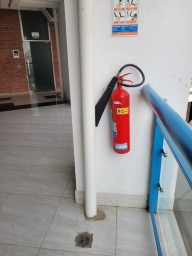fire_extinguisher: (48, 63, 116, 130), (48, 63, 116, 111), (54, 80, 116, 110)
